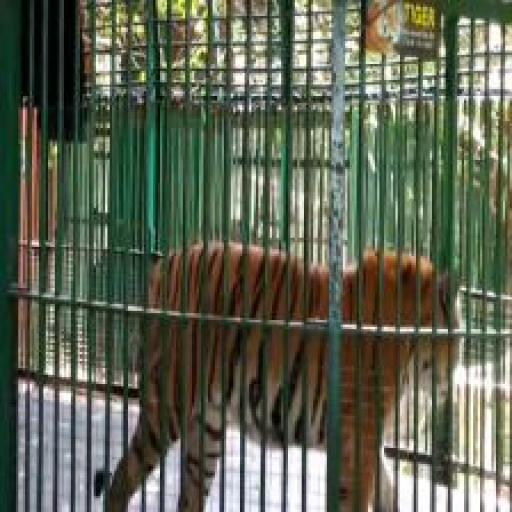Tiger: (91, 157, 463, 512)
